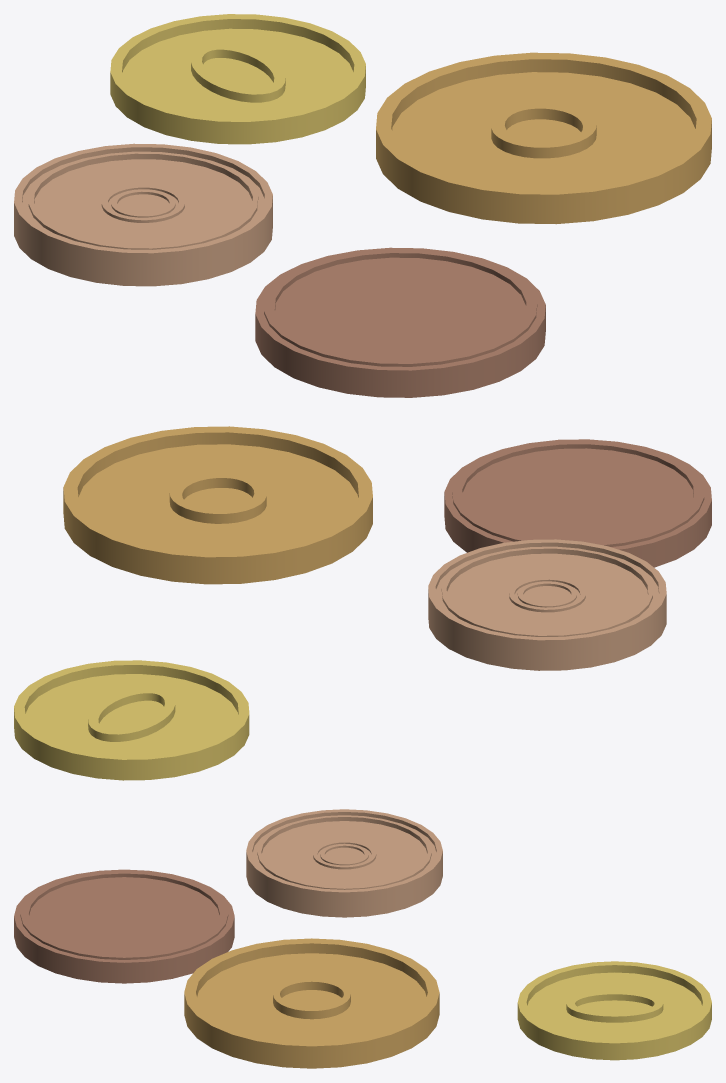
The model's file is Coin 2 .fbx.
3 renders of one model, top to bottom at view 1: azimuth 30°, elevation 25°; view 2: azimuth 150°, elevation 25°; view 3: azimuth 270°, elevation 25°, orthographic. The views are drawn at different scales.
Parts seen in each view (by area): view 1: Coin 5.002; view 2: Coin 5.002; view 3: Coin 5.002.
Part boxes in pixels (x1,y1,x2,y2): Coin 5.002: (14, 14, 711, 397); Coin 5.002: (14, 426, 711, 780); Coin 5.002: (14, 809, 711, 1068).
Size of the model in its own units: 40.86 by 5.46 by 51.13.
